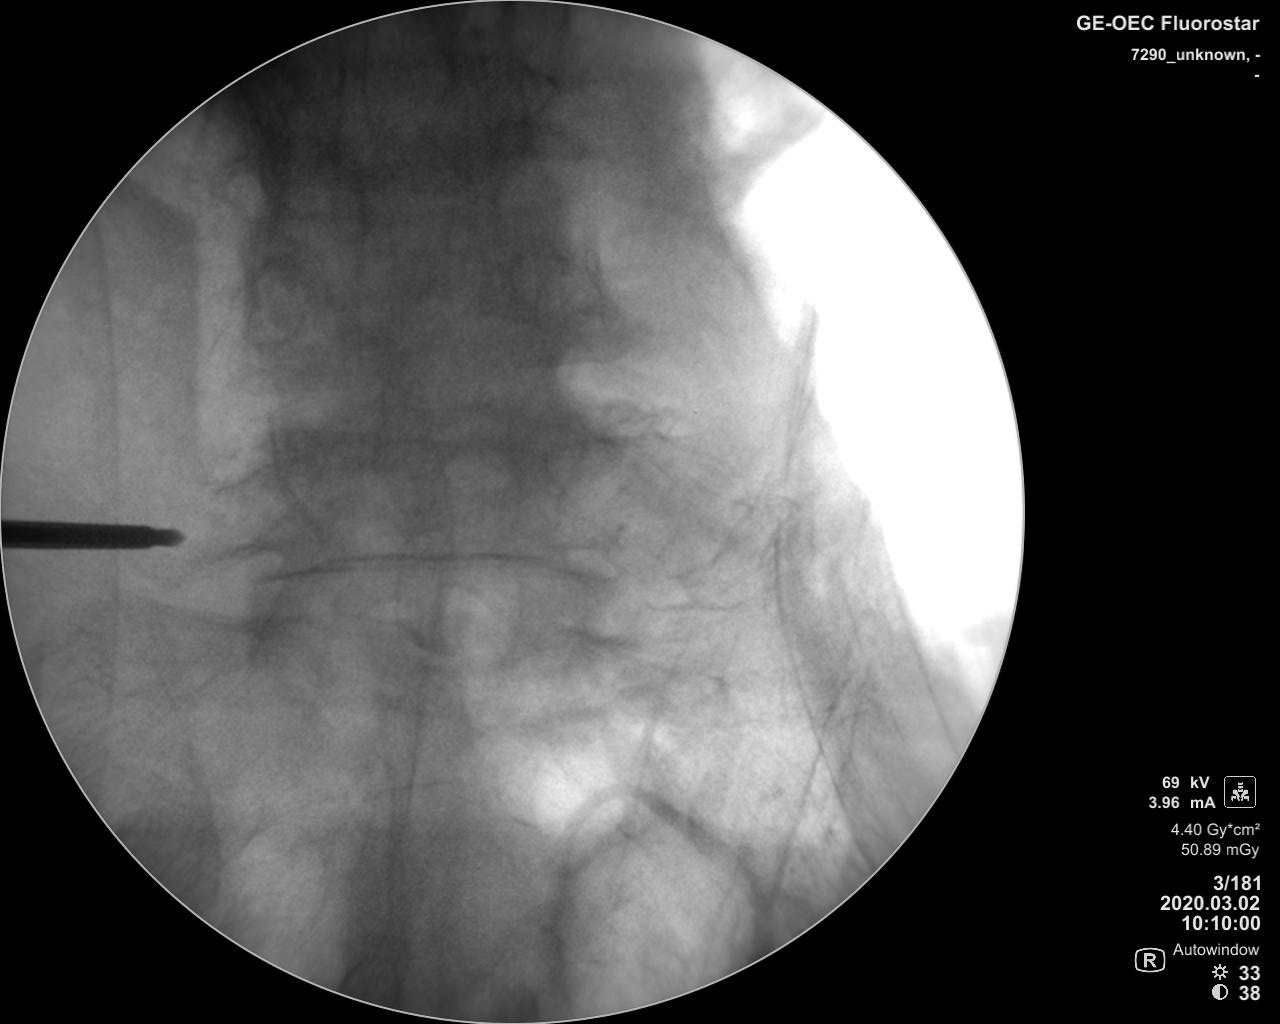eyes: (507, 250, 597, 322), (241, 264, 309, 347)
line: (245, 541, 614, 589), (245, 422, 639, 463)
